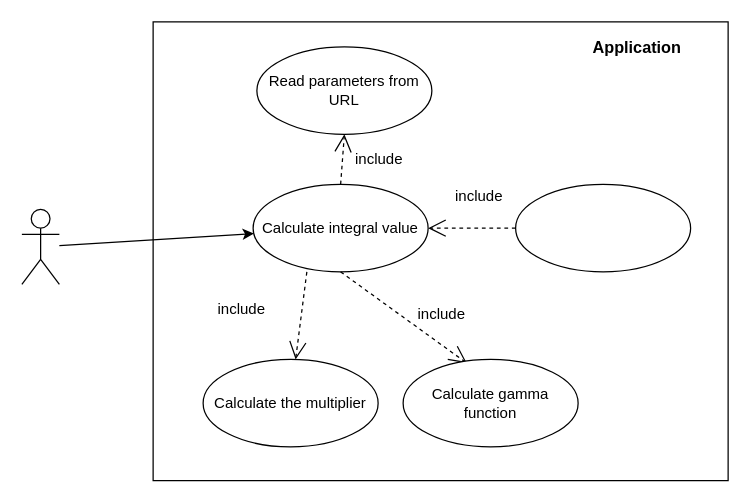
Image size: 750x503. Some labels were removed from this diagram. Each missing label, with the centre of its shape:
"Actor" belongs at (x=40, y=246).
"Print calculations" belongs at (x=602, y=227).
